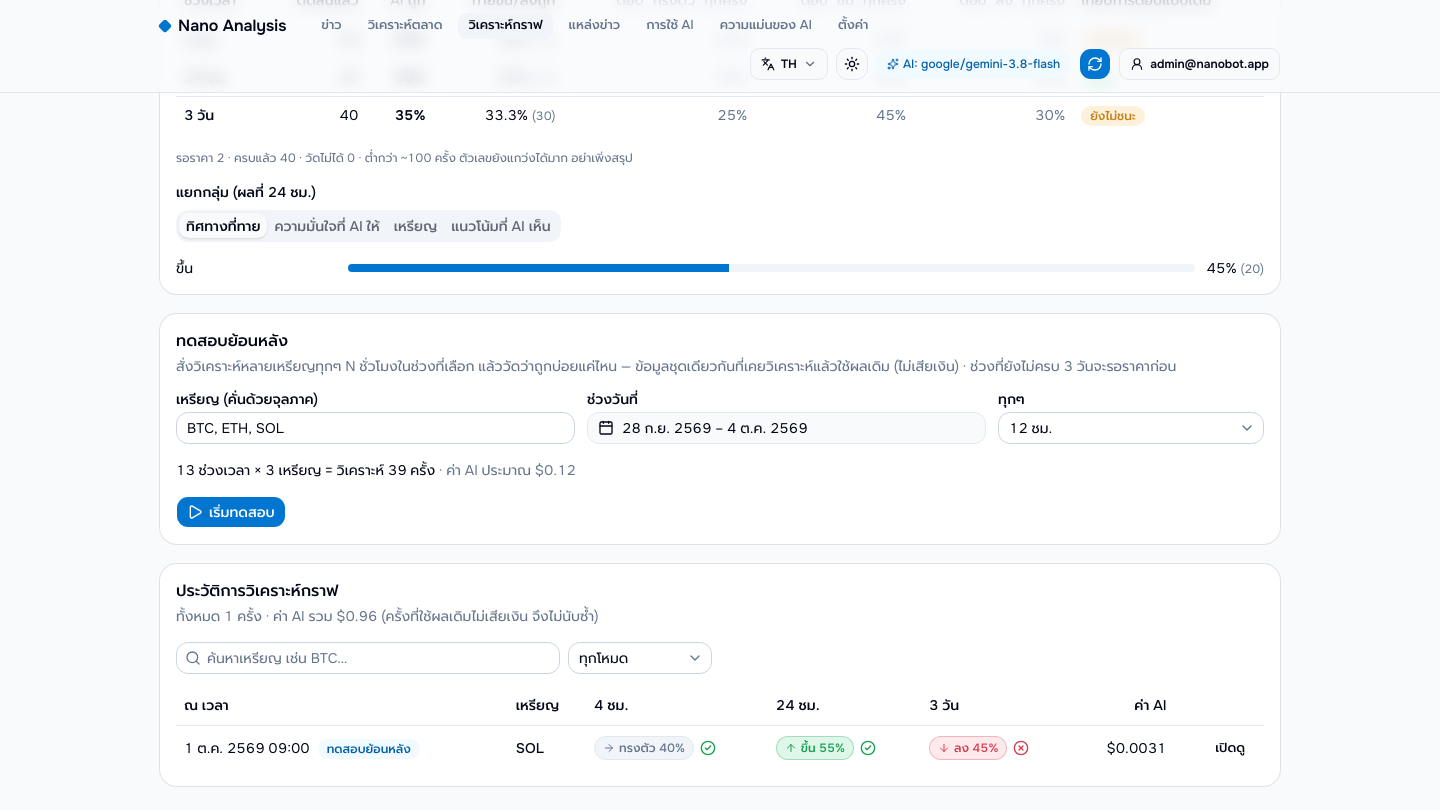
Scenario: ChartPage › plans a backtest with its size and cost, then starts it
(page scrolled)
Expected: the text "13 ช่วงเวลา × 3 เหรียญ = วิเคราะห์ 39 ครั้ง · ค่า AI ประมาณ $0.12" is shown, [176,460,576,478]
Expected: the text "· ค่า AI ประมาณ $0.12" is shown, [439,460,576,478]
Click the button "เริ่มทดสอบ": (231,512) [176,496,286,528]
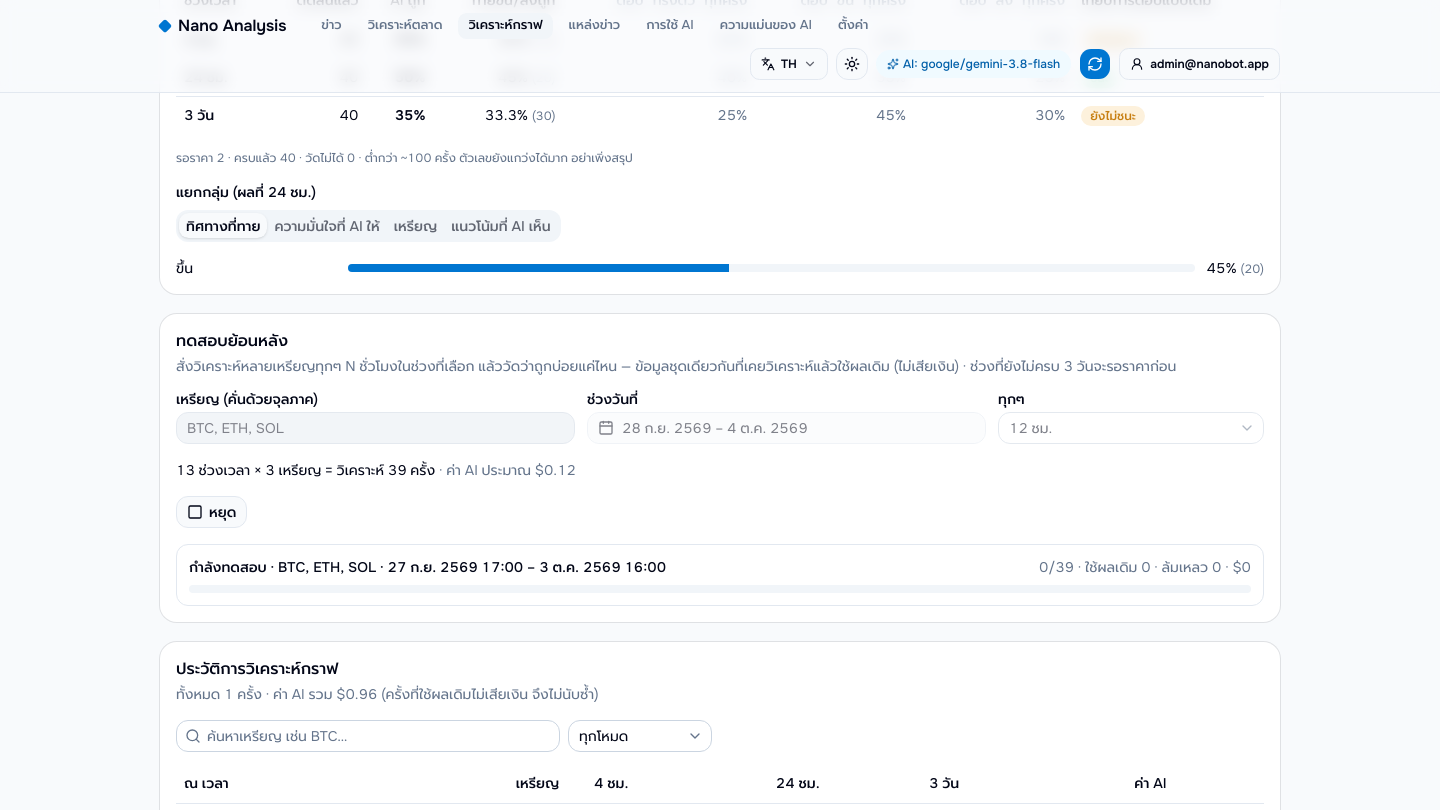
Expected: the button "หยุด" is shown, [176,496,247,528]
